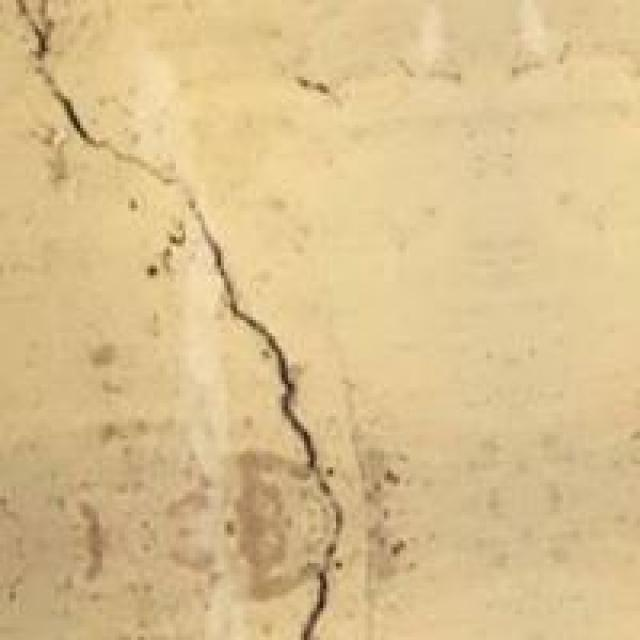Crack: (0, 0, 368, 637)
